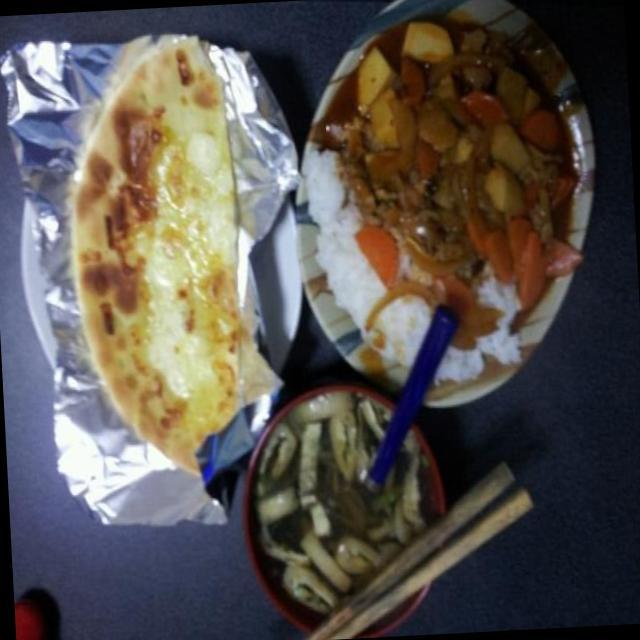Beef Curry: (342, 23, 586, 284)
